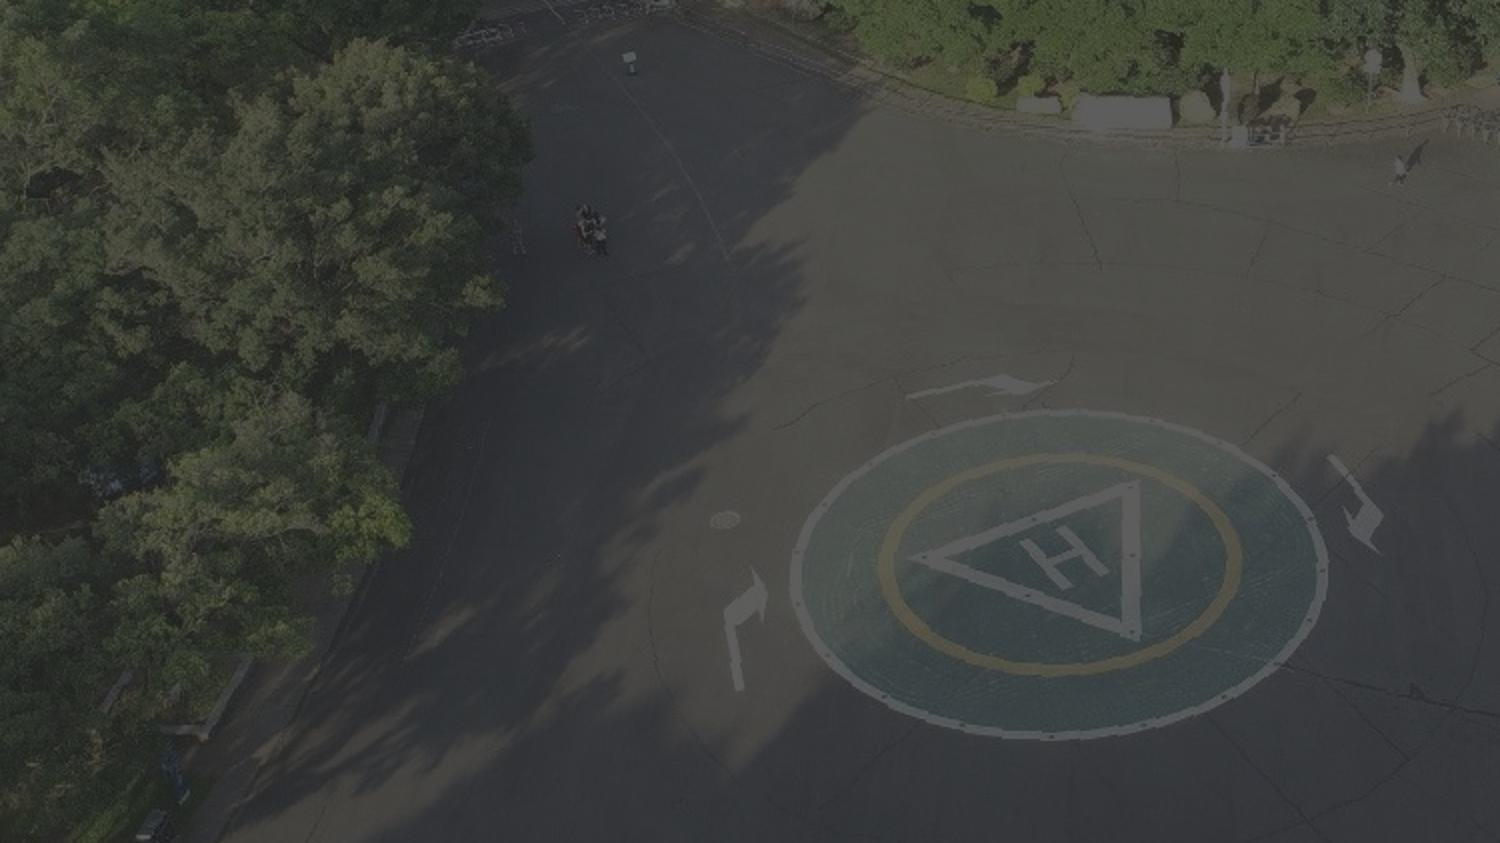Apron: (882, 450, 1203, 654)
